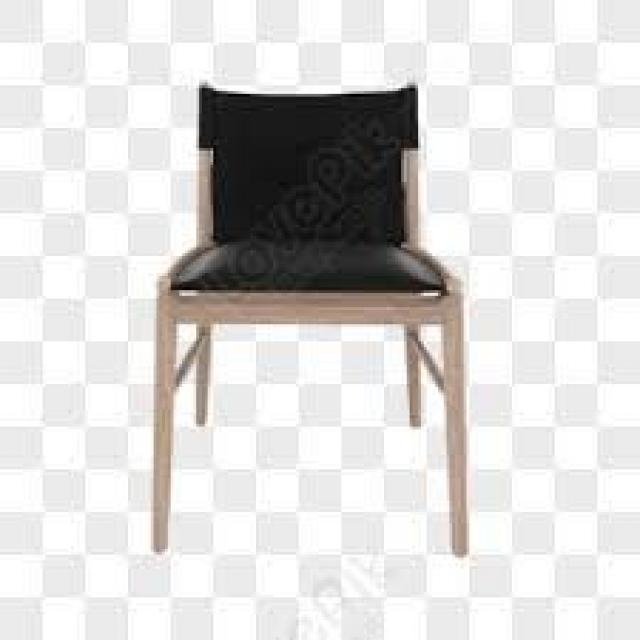chair: (102, 27, 492, 582)
